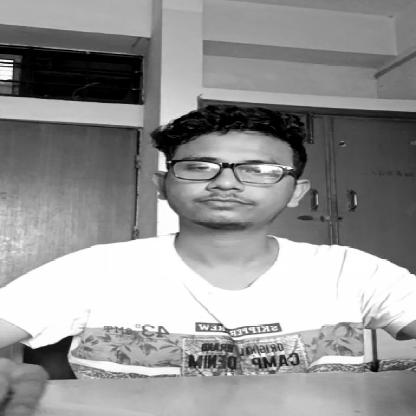Normal: (158, 106, 292, 222)
